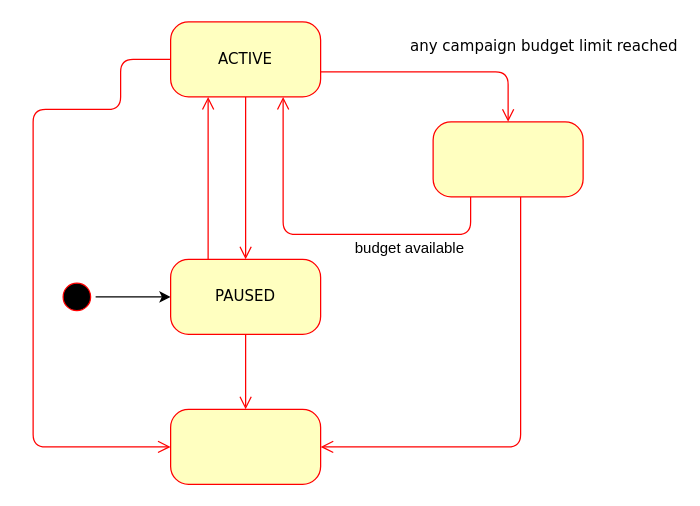
Image size: 700x506. Some labels were removed from this diagram. Each missing label, with the centre of its shape:
"BUDGET_REACHED" belongs at point 507,159.
"DELETED" belongs at point 245,446.
